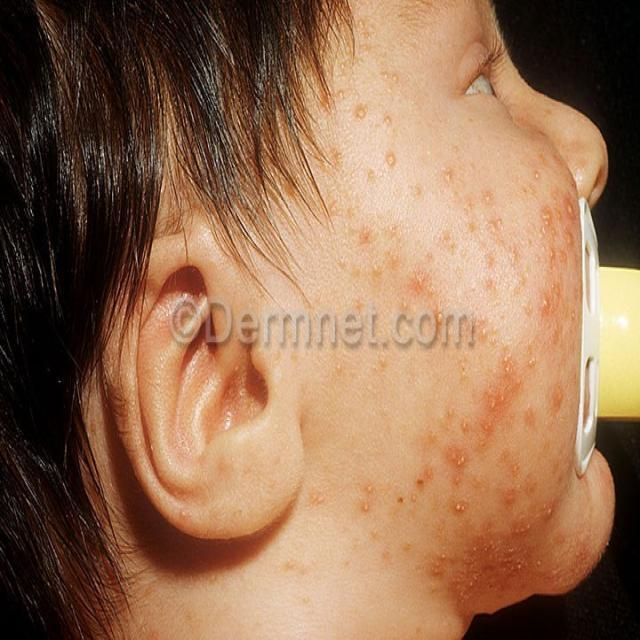acne: (326, 106, 474, 243), (378, 398, 463, 534), (479, 206, 578, 314), (473, 390, 549, 526), (362, 214, 450, 298), (485, 298, 543, 406)
